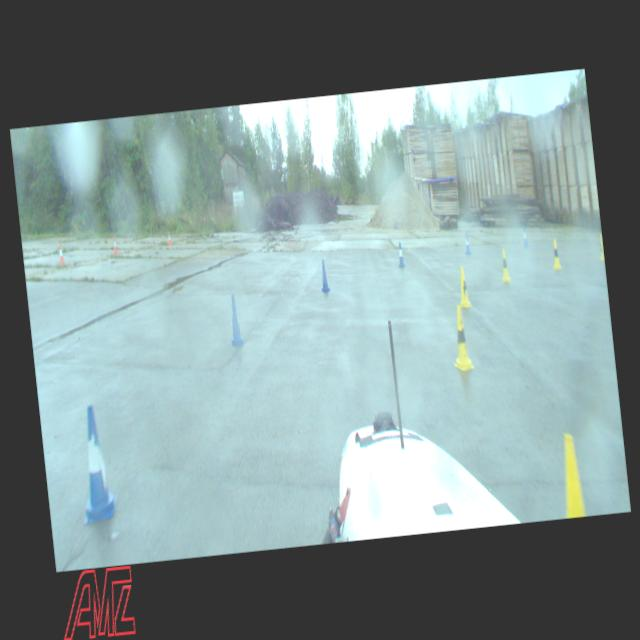blue_cone: (72, 404, 117, 524), (226, 293, 244, 347), (318, 258, 330, 293), (395, 241, 405, 268), (462, 232, 470, 254), (521, 225, 528, 248)
orange_cone: (56, 242, 64, 266), (112, 235, 118, 254), (166, 231, 172, 245)
yellow_cone: (558, 432, 586, 517), (447, 304, 475, 372), (455, 264, 472, 308), (498, 248, 510, 282), (550, 238, 562, 269), (597, 233, 604, 260)
